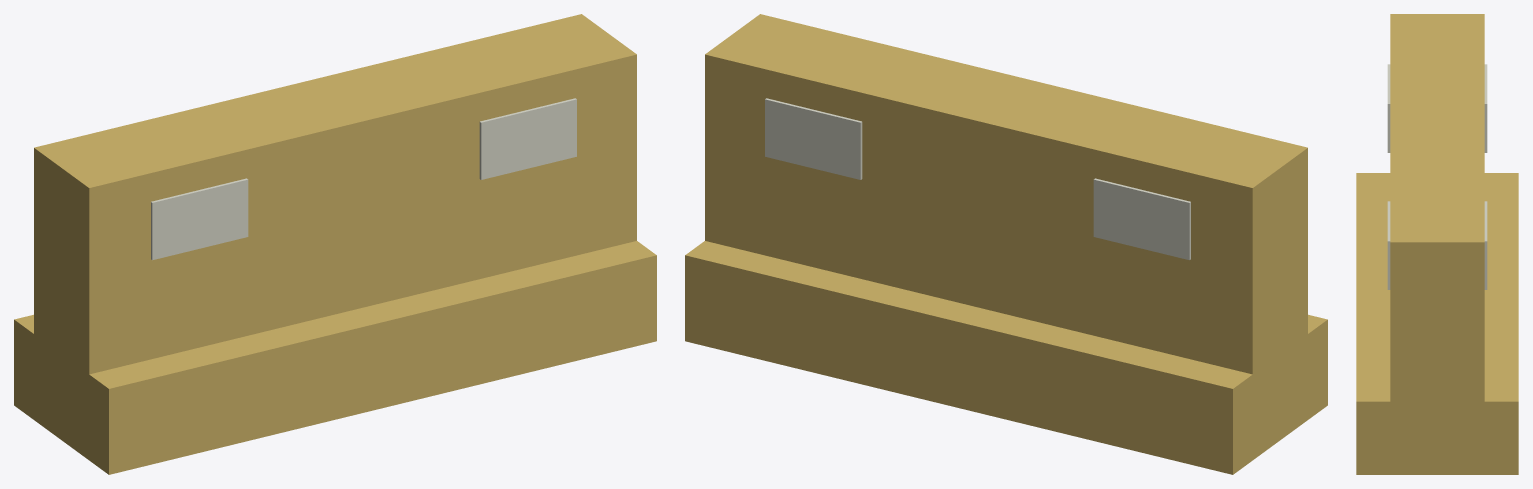
File: zombie-quarantine-streets-water-filled-barrier-23d455a1__19343.glb
The picture shows the model from 3 angles, left to right: view 1: azimuth 30°, elevation 25°; view 2: azimuth 150°, elevation 25°; view 3: azimuth 270°, elevation 25°; orthographic projection. The views are drawn at different scales.
Parts seen in each view (by area): view 1: water-filled-barrier; view 2: water-filled-barrier; view 3: water-filled-barrier.
Part boxes in pixels (bbox=[...]): water-filled-barrier: bbox=[14, 14, 656, 474]; water-filled-barrier: bbox=[685, 14, 1327, 474]; water-filled-barrier: bbox=[1356, 14, 1518, 474].
Bounding box in the file's own units: 2 × 0.95 × 0.5999.
